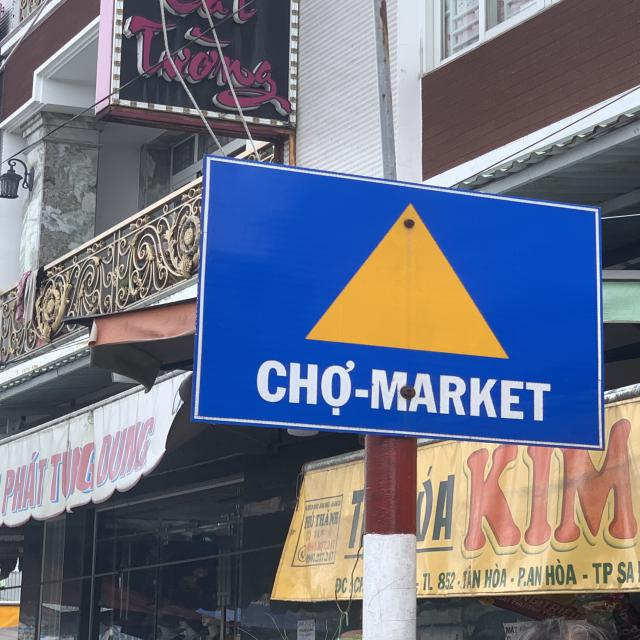Cho_Quay_Xe: (196, 153, 598, 445)
